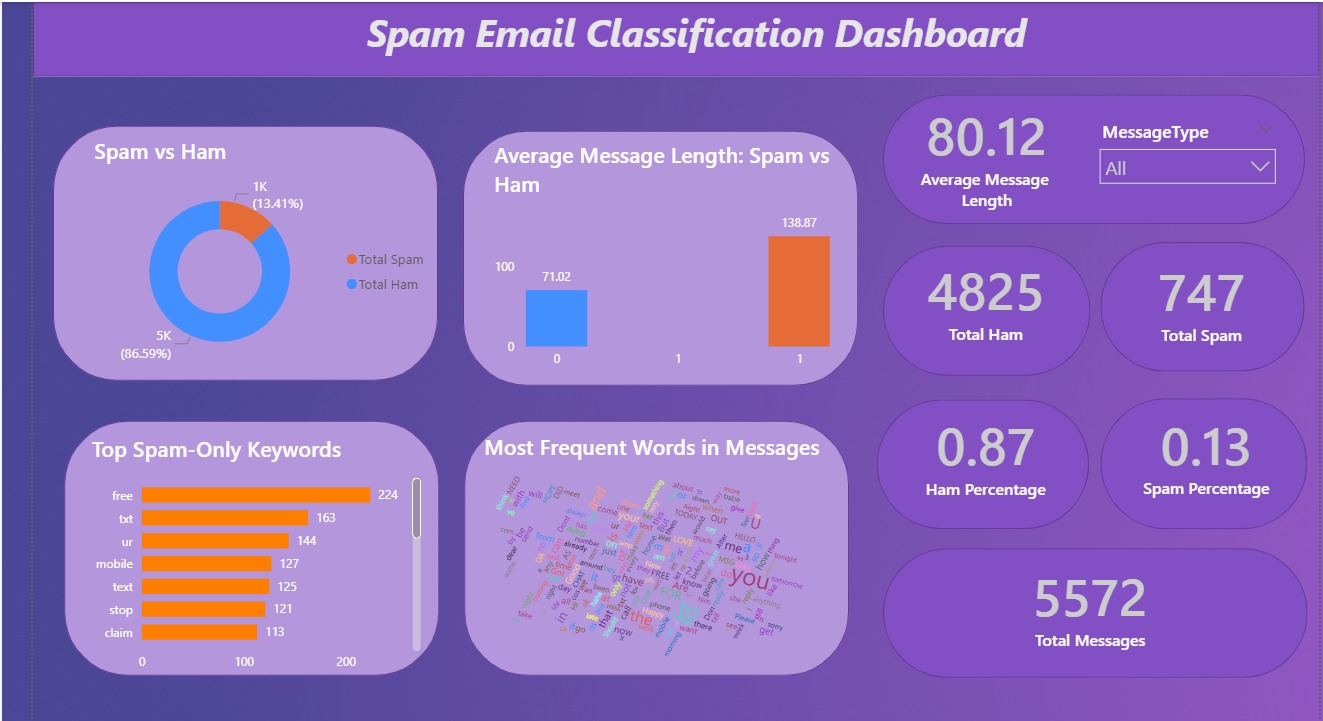

The dashboard page shown, as its layout file describes it:
{"tool":"powerbi","page":{"name":"Page 1","canvas":[1280,720],"ordinal":0},"visuals":[{"type":"shape","box":[845.3,543.4,422.6,129],"z":0},{"type":"shape","box":[429.2,417.2,382.8,253.9],"z":1000},{"type":"shape","box":[19.7,123.7,383.1,253.8],"z":2000},{"type":"shape","box":[427.9,128.1,393.1,253.8],"z":3000},{"type":"shape","box":[31.4,416.7,373.2,253.8],"z":4000},{"type":"shape","box":[839.8,395.2,211.3,129],"z":5000},{"type":"shape","box":[1062.1,238.8,203.1,129],"z":6000},{"type":"shape","box":[845.7,242.9,206.5,129.4],"z":7000},{"type":"shape","box":[845.3,91.9,419.9,129],"z":8000},{"type":"clusteredColumnChart","title":"Average Message Length: Spam vs Ham","fields":{"Category":["spam_cleaned.label"],"Y":["Avg(spam_cleaned.message_length)"]},"box":[453.7,136.9,345.8,236],"z":9000},{"type":"clusteredBarChart","title":"Top Spam-Only Keywords","fields":{"Category":["spam_top_keywords.keyword"],"Y":["Sum(spam_top_keywords.count)"]},"box":[53,428.7,337.6,245.6],"z":10000},{"type":"WordCloud1447959067750","title":"Most Frequent Words in Messages","fields":{"Category":["spam_cleaned.text"]},"box":[444.3,428.1,367.8,248.4],"z":11000},{"type":"card","fields":{"Values":["spam_cleaned.Total Messages"]},"box":[940,544.8,223.7,111.1],"z":12000},{"type":"card","fields":{"Values":["spam_cleaned.Total Ham"]},"box":[828.3,232.9,240.1,125.6],"z":13000},{"type":"card","fields":{"Values":["spam_cleaned.Total Spam"]},"box":[1056.6,233.3,214.1,126.2],"z":14000},{"type":"card","fields":{"Values":["spam_cleaned.Average Message Length"]},"box":[852.1,48,194.9,185.2],"z":15000},{"type":"slicer","fields":{"Values":["spam_cleaned.MessageType"]},"box":[1051.6,112.5,195.3,95.8],"z":16000},{"type":"shape","box":[0,0,1280.3,74.1],"z":17000},{"type":"textbox","box":[326.6,0,849.4,74.1],"z":18000},{"type":"donutChart","title":"Spam vs Ham ","fields":{"Y":["spam_cleaned.Total Spam","spam_cleaned.Total Ham"]},"box":[55.7,132.6,347.2,238.8],"z":19000},{"type":"shape","box":[1062.1,393.8,205.8,130.4],"z":20000},{"type":"card","fields":{"Values":["spam_cleaned.Spam Percentage"]},"box":[1062.1,373.2,211.3,152.3],"z":21000},{"type":"card","fields":{"Values":["spam_cleaned.Ham Percentage"]},"box":[857.6,374.6,182.5,150.9],"z":22000}]}

Visuals, with their boxes on the page's 1280x720 design canvas (x1, y1, x2, y2). These are canvas units, not pixel positions in the 1323x721 screenshot, which may show the page scaled, cropped or inside an application window:
shape: left=845, top=543, right=1268, bottom=672
shape: left=429, top=417, right=812, bottom=671
shape: left=20, top=124, right=403, bottom=378
shape: left=428, top=128, right=821, bottom=382
shape: left=31, top=417, right=405, bottom=670
shape: left=840, top=395, right=1051, bottom=524
shape: left=1062, top=239, right=1265, bottom=368
shape: left=846, top=243, right=1052, bottom=372
shape: left=845, top=92, right=1265, bottom=221
"Average Message Length: Spam vs Ham" clusteredColumnChart: left=454, top=137, right=800, bottom=373
"Top Spam-Only Keywords" clusteredBarChart: left=53, top=429, right=391, bottom=674
"Most Frequent Words in Messages" WordCloud1447959067750: left=444, top=428, right=812, bottom=676
card - spam_cleaned.Total Messages: left=940, top=545, right=1164, bottom=656
card - spam_cleaned.Total Ham: left=828, top=233, right=1068, bottom=358
card - spam_cleaned.Total Spam: left=1057, top=233, right=1271, bottom=360
card - spam_cleaned.Average Message Length: left=852, top=48, right=1047, bottom=233
slicer - spam_cleaned.MessageType: left=1052, top=112, right=1247, bottom=208
shape: left=0, top=0, right=1280, bottom=74
textbox: left=327, top=0, right=1176, bottom=74
"Spam vs Ham " donutChart: left=56, top=133, right=403, bottom=371
shape: left=1062, top=394, right=1268, bottom=524
card - spam_cleaned.Spam Percentage: left=1062, top=373, right=1273, bottom=526
card - spam_cleaned.Ham Percentage: left=858, top=375, right=1040, bottom=526
